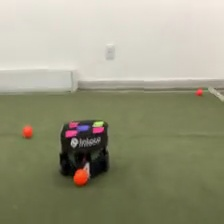ball: (71, 167, 90, 189), (21, 124, 35, 139), (195, 86, 205, 96)
goal: (1, 68, 79, 94)
robot: (55, 116, 113, 182)
